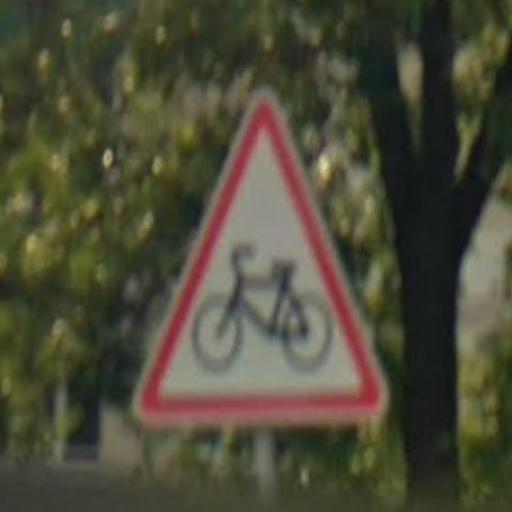traffic_sign: (117, 88, 388, 433)
